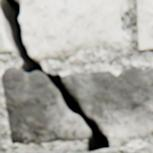brick: (137, 0, 152, 51), (94, 149, 119, 152)
broken_brick: (61, 67, 152, 147), (2, 69, 89, 144), (18, 0, 122, 62), (0, 12, 13, 54)
crack: (0, 0, 109, 152)
